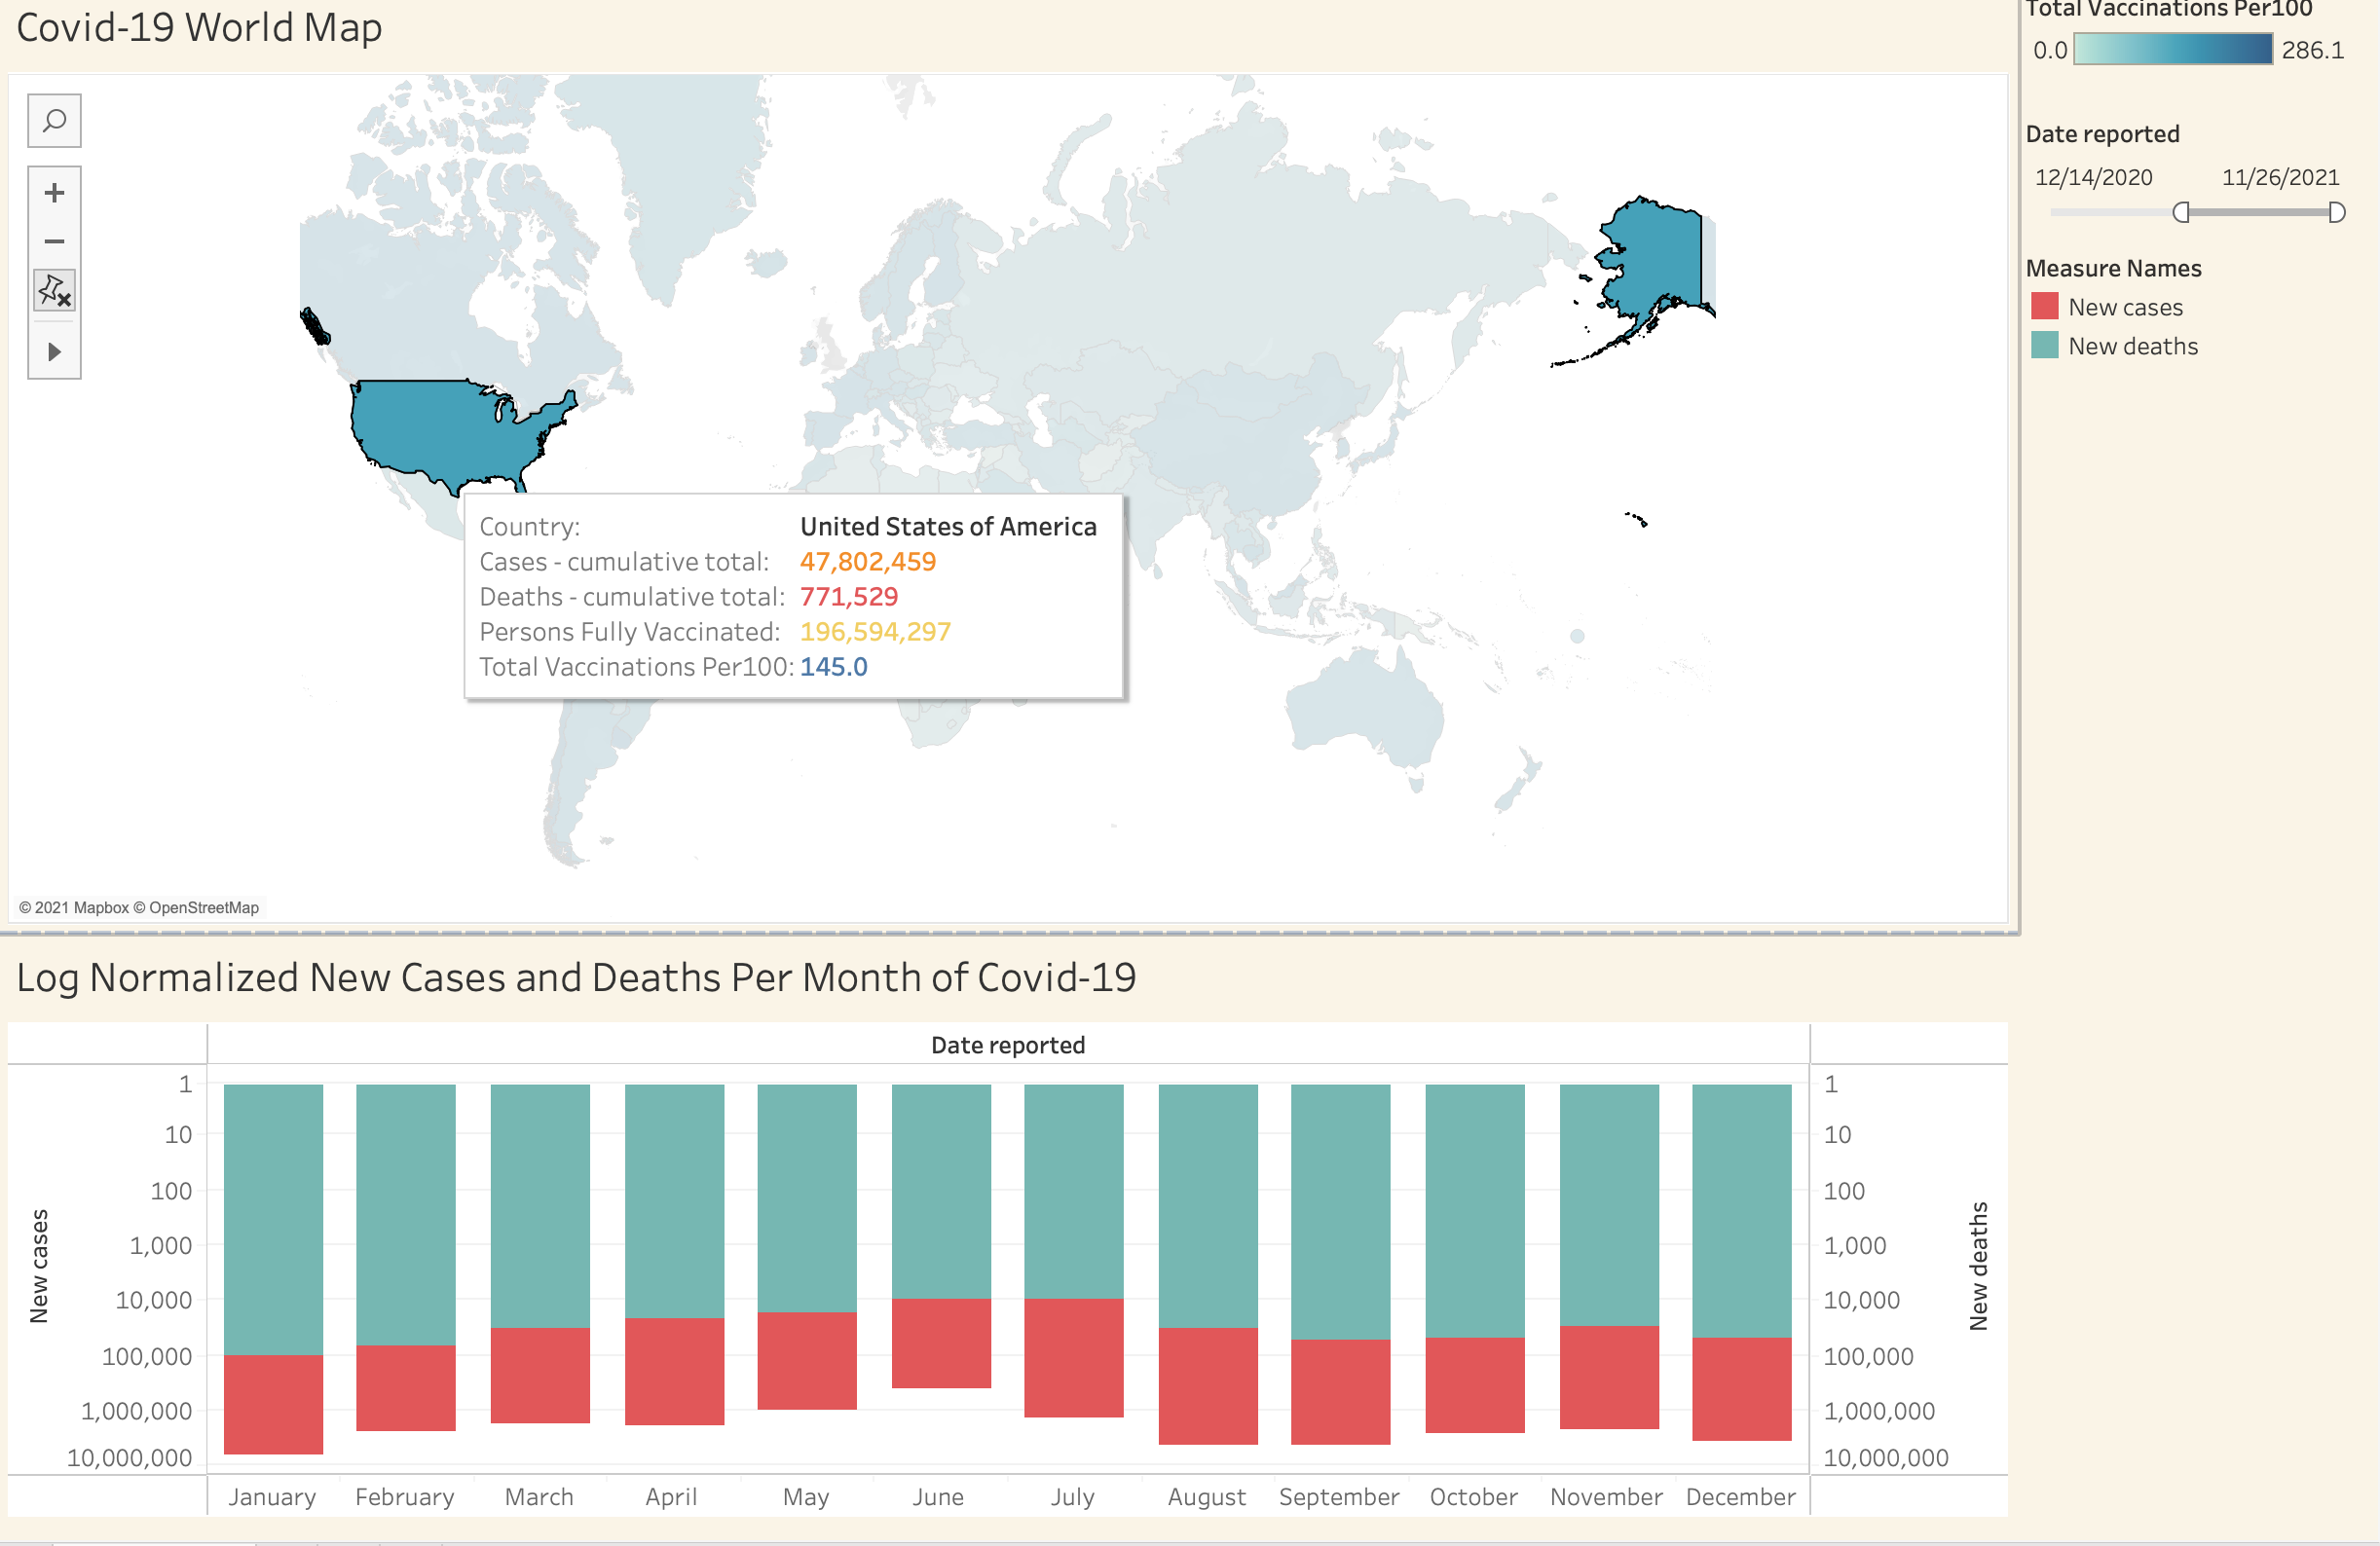

This screenshot's page, from the dashboard's own definition file:
{"tool":"tableau","page":{"name":"Dashboard 1","canvas":[1000,1000],"units":"permille","ordinal":0},"visuals":[{"type":"worksheet","title":"Sheet 1","mark":"Automatic","box":[6.5,9.9,843,603.9]},{"type":"legend","title":"Sheet 1","param":"[federated.1vvfp670pnrrzk1gov2pv14rkbml].[sum:TOTAL_VACCINATIONS_PER100:qk]","box":[849.5,9.9,144,80.4]},{"type":"filter","title":"Sheet 2","param":"[federated.1vvfp670pnrrzk1gov2pv14rkbml].[none:Date_reported:qk]","box":[849.5,90.3,144,85.4]},{"type":"legend","title":"Sheet 2","param":"[federated.1vvfp670pnrrzk1gov2pv14rkbml].[:Measure Names]","box":[849.5,175.7,144,81.7]},{"type":"worksheet","title":"Sheet 2","mark":"Bar","rows":["New_cases","New_deaths"],"cols":["Date_reported"],"box":[6.5,613.8,843,376.3]}]}

Visuals, with their boxes on the dashboard's canvas, which has no fixed pixel size, in thousandths of its width and height (x1, y1, x2, y2). These are canvas units, not pixel positions in the 2380x1546 screenshot, which may show the page scaled, cropped or inside an application window:
"Sheet 1" worksheet: 6, 10, 850, 614
"Sheet 1" legend: 850, 10, 994, 90
"Sheet 2" filter: 850, 90, 994, 176
"Sheet 2" legend: 850, 176, 994, 257
"Sheet 2" worksheet (Bar marks): 6, 614, 850, 990
